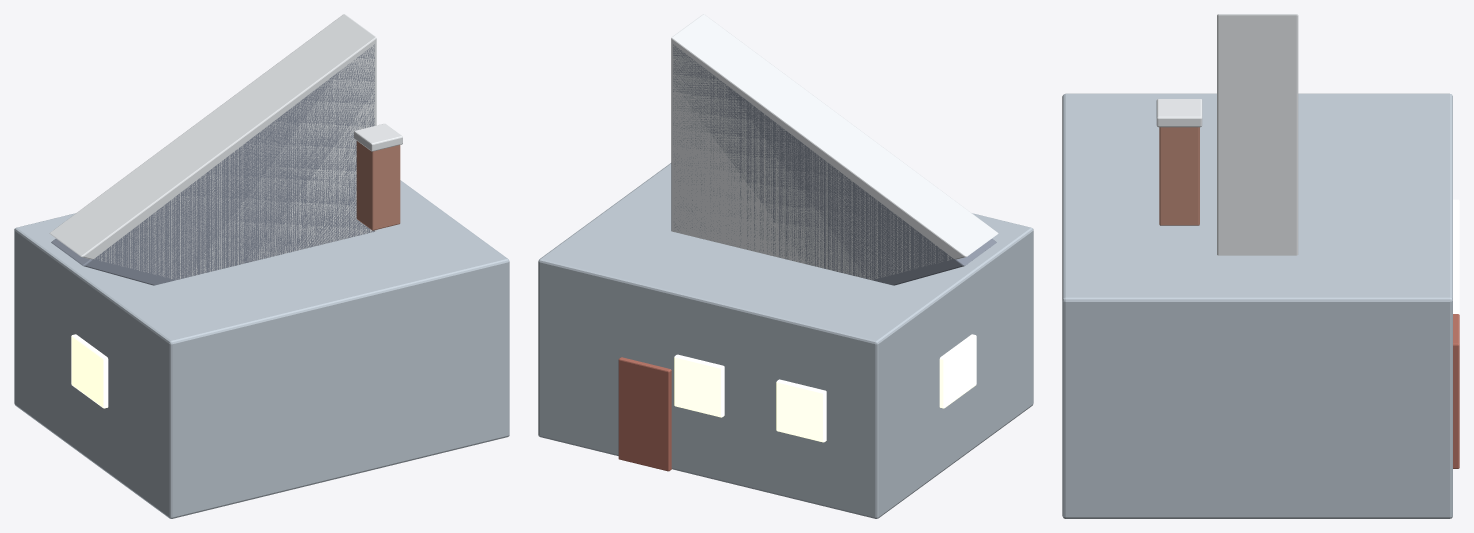
File: house_b.glb
3 views of the same model, side by side, from view 1: azimuth 30°, elevation 25°; view 2: azimuth 150°, elevation 25°; view 3: azimuth 270°, elevation 25° (orthographic). The views are drawn at different scales.
Parts seen in each view (by area): view 1: walls, snowcap, roof, chimney, winS, chimsnow; view 2: walls, snowcap, roof, door, win, win.001, winS; view 3: walls, snowcap, chimney, chimsnow, door.
Boxes of the visible parts, <box> form: walls: <box>14,180,509,518</box>; snowcap: <box>49,14,376,279</box>; roof: <box>51,44,374,285</box>; chimney: <box>356,141,400,230</box>; winS: <box>71,334,108,408</box>; chimsnow: <box>354,123,402,151</box>; walls: <box>538,163,1033,518</box>; snowcap: <box>671,14,998,279</box>; roof: <box>673,44,996,285</box>; door: <box>618,357,671,471</box>; win: <box>776,379,826,442</box>; win.001: <box>674,354,724,417</box>; winS: <box>939,334,976,408</box>; walls: <box>1062,93,1452,518</box>; snowcap: <box>1217,14,1298,255</box>; chimney: <box>1159,127,1199,225</box>; chimsnow: <box>1156,99,1202,127</box>; door: <box>1453,314,1459,468</box>.
Size of the model in its own units: 6.47 by 6.27 by 4.88.
